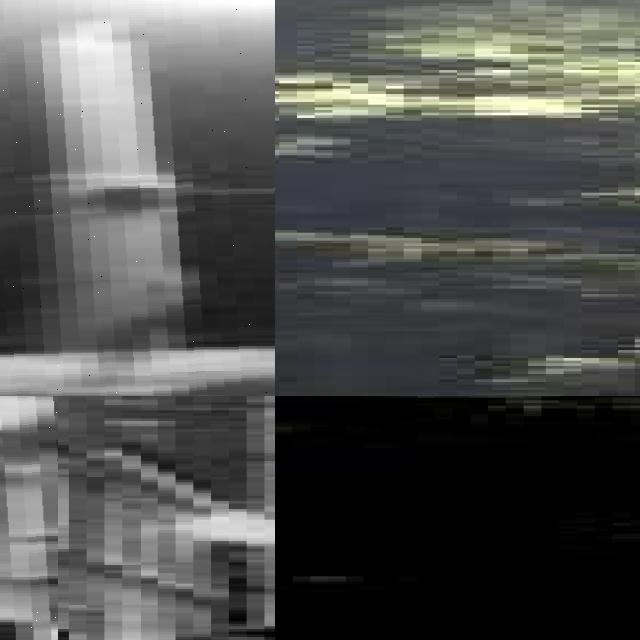street light: (0, 0, 275, 396), (157, 514, 275, 640), (0, 396, 57, 640)
